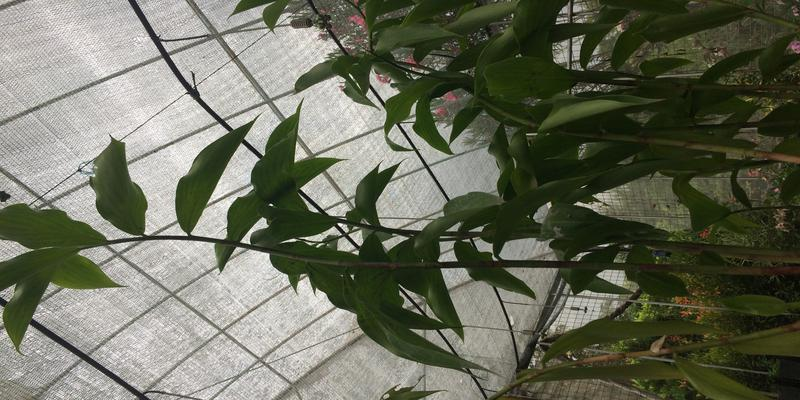Insulin: (21, 104, 676, 370)
